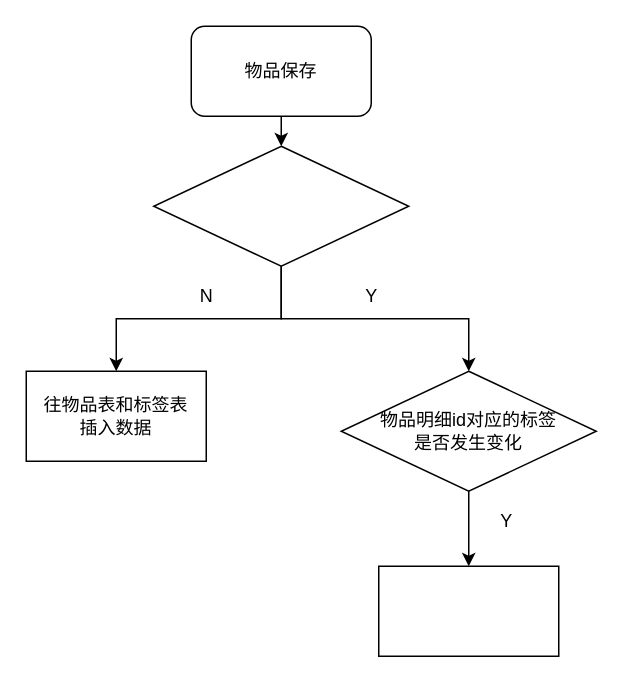
The diagram is 623 pixels wide and 683 high, and some of its shapes have lost their labels. The shapes that lost their labels are listed below. From the top down, each one's box as (x1, y1, x2, y2) in pixels, then its label:
(152, 145, 409, 266): 物品明细id是否存在？
(377, 565, 559, 656): 删除去掉的标签 增加新增的标签
